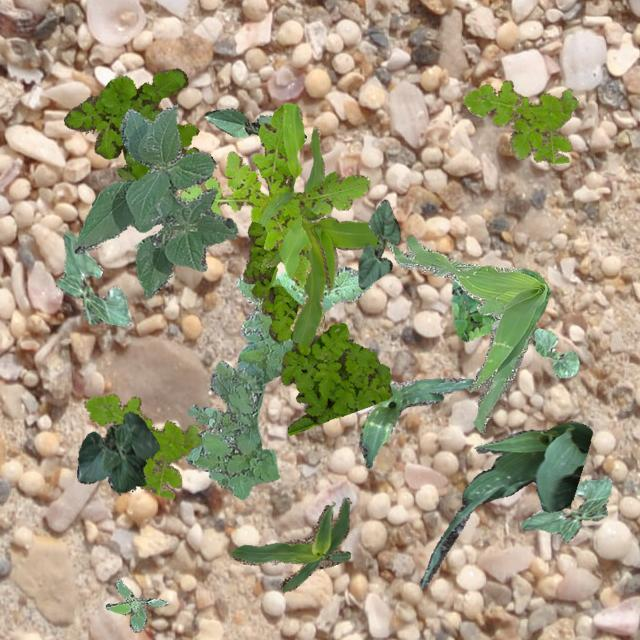crop: (71, 102, 238, 296), (418, 420, 592, 588), (270, 124, 378, 346), (230, 496, 350, 592), (358, 376, 472, 466), (54, 232, 130, 324), (75, 411, 158, 492), (520, 476, 610, 542), (358, 198, 398, 288), (532, 326, 576, 376), (204, 108, 272, 136)
weed: (185, 266, 372, 498), (178, 103, 368, 284), (242, 210, 390, 434), (388, 235, 550, 432), (63, 68, 198, 180), (82, 392, 200, 498), (462, 80, 576, 162), (105, 578, 167, 632), (450, 280, 494, 340)
